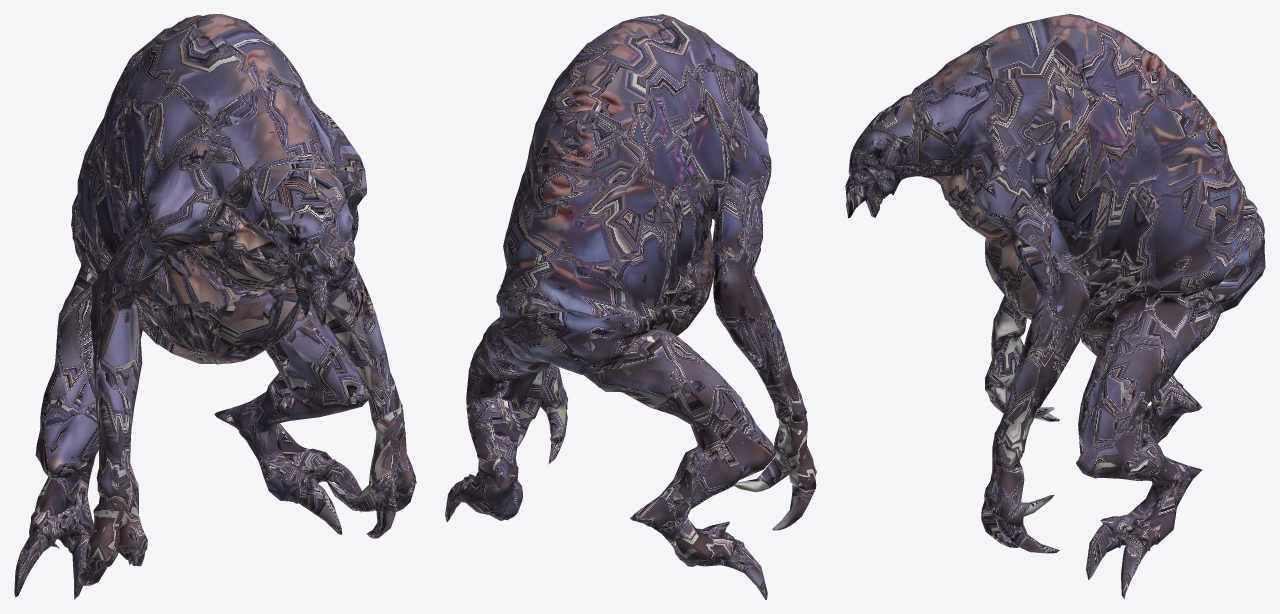
File: ettercap.glb
3 renders of one model, left to right at view 1: azimuth 30°, elevation 25°; view 2: azimuth 150°, elevation 25°; view 3: azimuth 270°, elevation 25°, orthographic. The views are drawn at different scales.
Bounding box in the file's own units: 1.24 × 1.9 × 1.43.
Materials: 1 (1 with a texture image).
